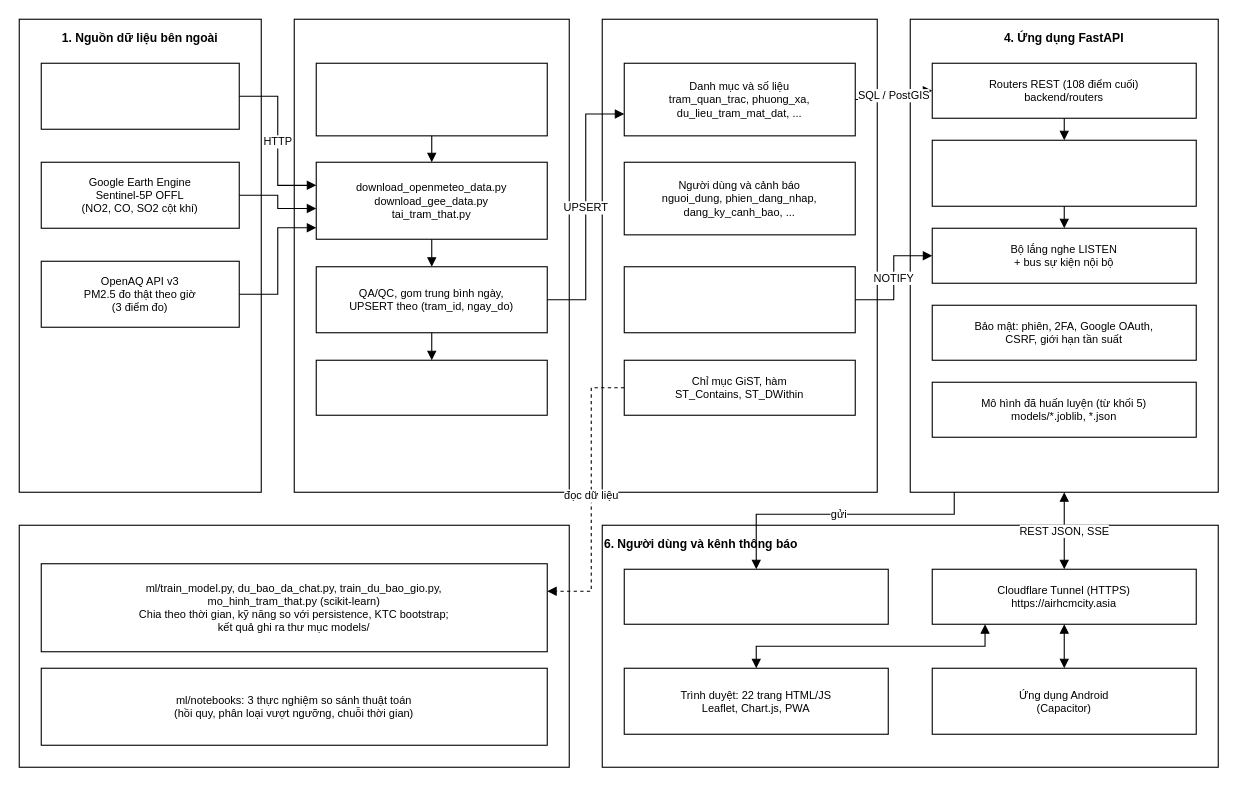
Some shapes in this 1238 by 787 pixel diagram are drawn without their labels. The box of each missing label's shape, as (x1, y1, x2, y2) in pixels:
2. Thu thập và đồng bộ: (293, 18, 569, 492)
3. PostgreSQL 17 + PostGIS 3.6: (601, 18, 877, 492)
5. Huấn luyện ngoại tuyến: (18, 524, 569, 767)
dong_bo_hang_ngay.py Task Scheduler 07:30 hoặc luồng nền máy chủ: (315, 62, 547, 136)
Email SMTP, Web Push: (623, 568, 888, 624)
Ghi lich_su_dong_bo, nhat_ky_he_thong: (315, 359, 547, 415)
Open-Meteo API CAMS (PM2.5, PM10, O3) ERA5 (khí tượng): (40, 62, 239, 129)
Services: VN_AQI, dự báo, IDW, hoa gió, độ nhạy, cảnh báo backend/services: (931, 139, 1196, 206)
Trigger CDC trg_cdc_tram, trg_cdc_du_lieu → pg_notify: (623, 266, 855, 333)
